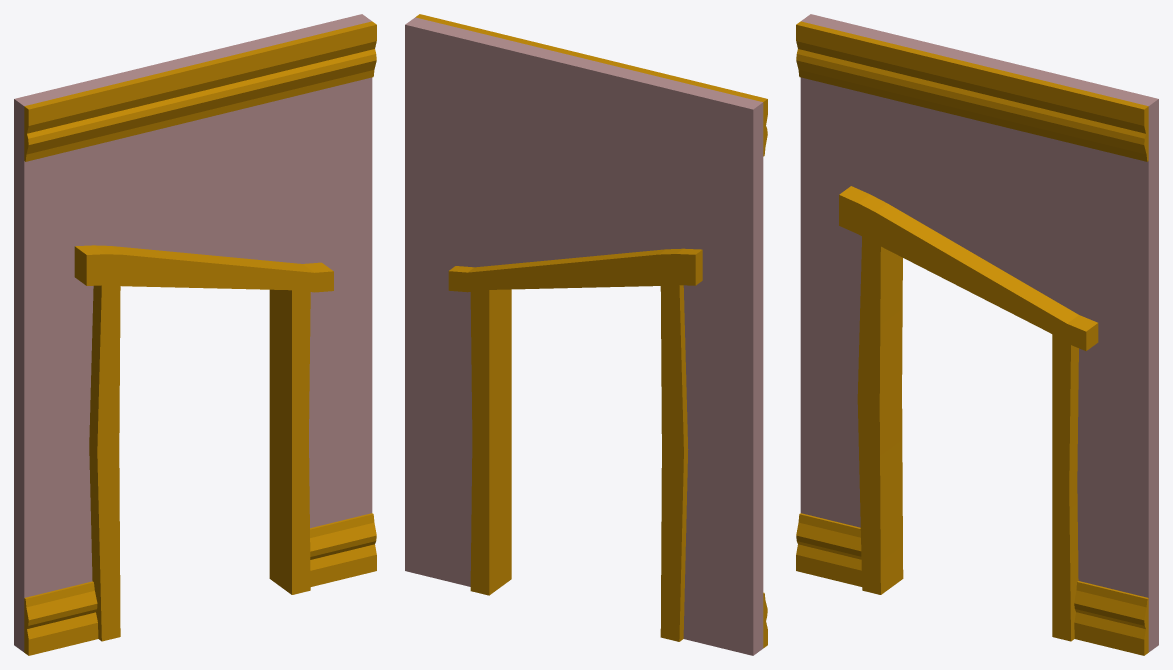
File: SM_DoorTile_2M.fbx
3 views of the same model, side by side, from view 1: azimuth 30°, elevation 25°; view 2: azimuth 150°, elevation 25°; view 3: azimuth 330°, elevation 25° (orthographic).
Visible parts, largest first — view 1: SM_DoorTile_2M; view 2: SM_DoorTile_2M; view 3: SM_DoorTile_2M.
Part boxes in pixels (box(x1,y1,x2,y2)): SM_DoorTile_2M: box(14, 14, 376, 655); SM_DoorTile_2M: box(405, 14, 767, 655); SM_DoorTile_2M: box(796, 14, 1158, 655).
Bounding box in the file's own units: 200 × 300 × 29.14.
